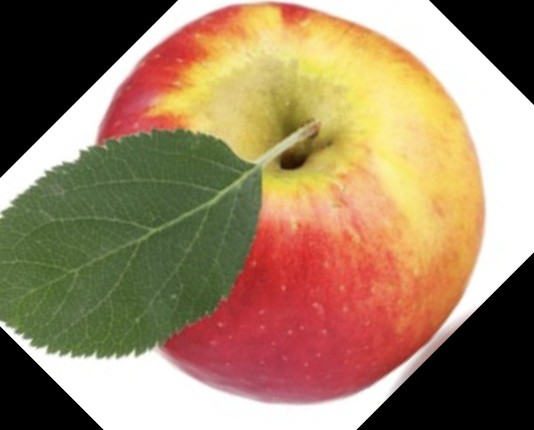fresh_apple: (96, 2, 485, 405)
